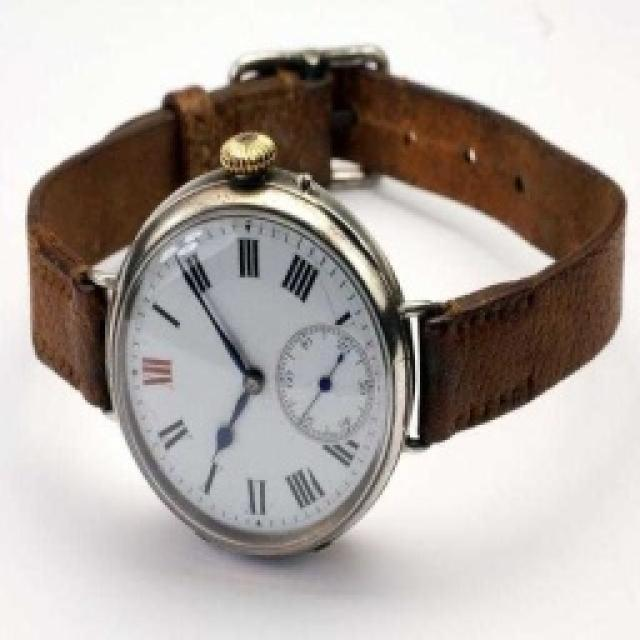saat: (28, 31, 630, 567)
